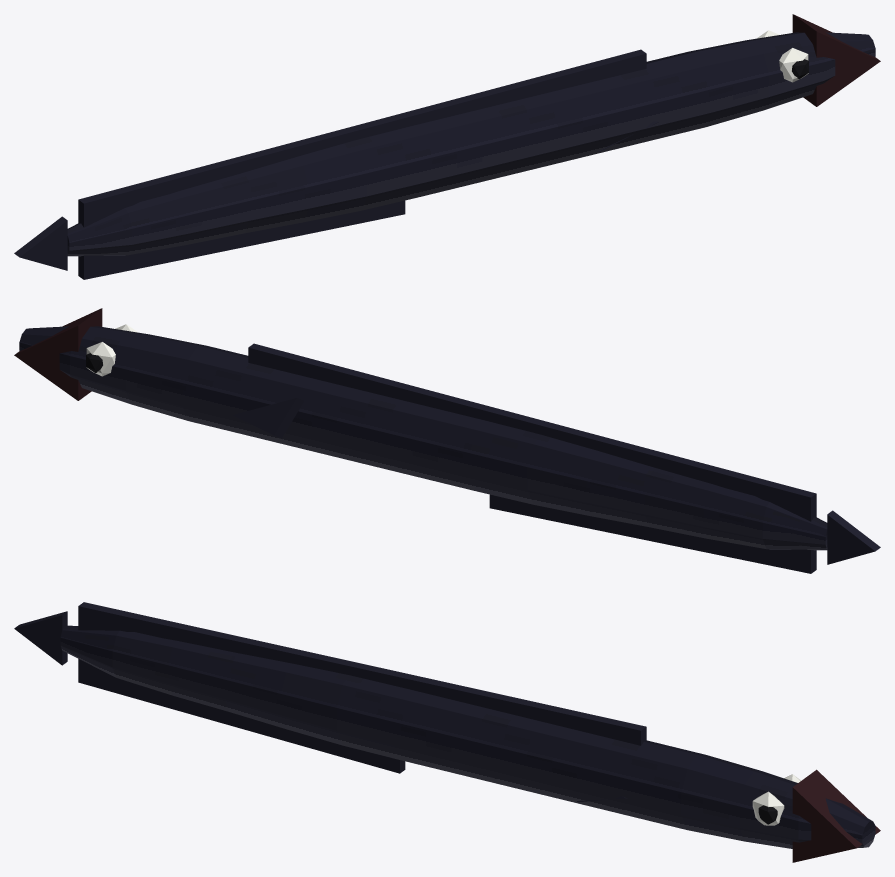
File: gulper_eel.glb
The picture shows the model from 3 angles, top to bottom: view 1: azimuth 30°, elevation 25°; view 2: azimuth 150°, elevation 25°; view 3: azimuth 330°, elevation 25°; orthographic projection.
Parts seen in each view (by area): view 1: fish_gulper_eel; view 2: fish_gulper_eel; view 3: fish_gulper_eel.
Boxes of the visible parts, x1,y1,x2,y2 form: fish_gulper_eel: [14, 14, 880, 279]; fish_gulper_eel: [14, 308, 880, 573]; fish_gulper_eel: [14, 602, 880, 862].
Size of the model in its own units: 1.06 by 0.121 by 0.1047.
Materials: 5 (1 with a texture image).
